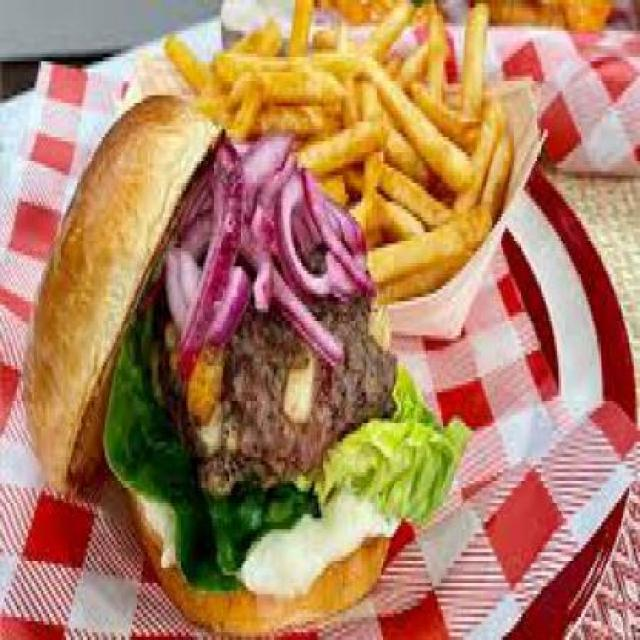french fries: (160, 4, 503, 290)
hamburger: (25, 103, 447, 606)
